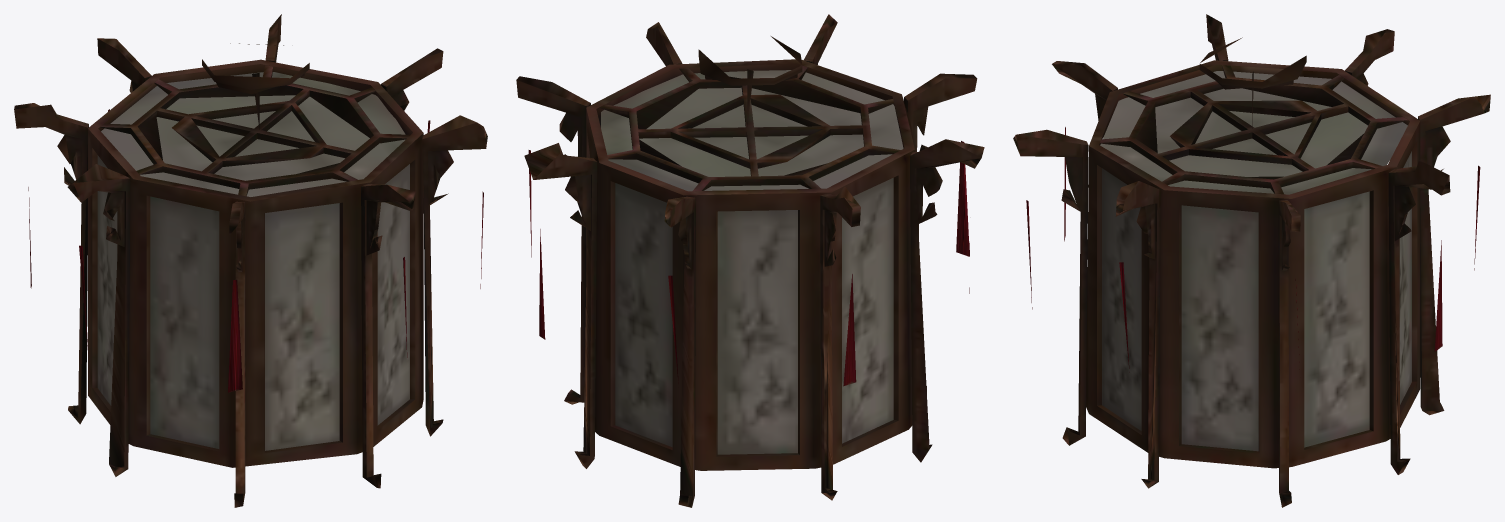
Rendered from chandelier_cn.glb.
3 views of the same model, side by side, from view 1: azimuth 30°, elevation 25°; view 2: azimuth 150°, elevation 25°; view 3: azimuth 270°, elevation 25° (orthographic). The views are drawn at different scales.
Visible parts, largest first — view 1: chandelier_cn; view 2: chandelier_cn; view 3: chandelier_cn.
Boxes of the visible parts, x1,y1,x2,y2 form: chandelier_cn: (14,14,487,507); chandelier_cn: (516,14,984,507); chandelier_cn: (1013,14,1490,507).
Bounding box in the file's own units: 0.8772 × 0.7477 × 0.8731.
Materials: 1 (1 with a texture image).
